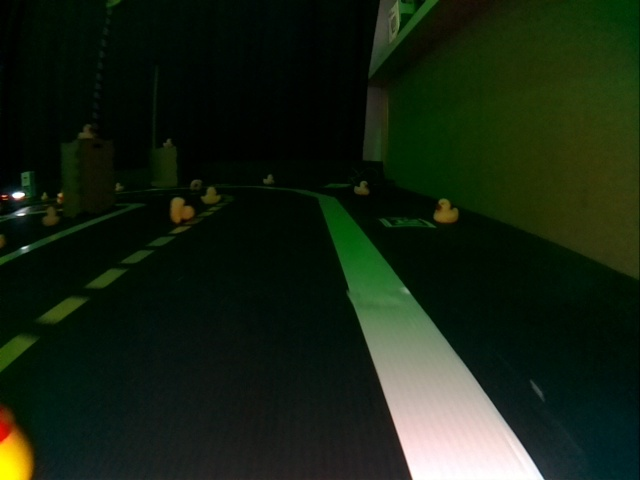Duckie: (434, 199, 458, 223), (169, 198, 193, 221), (43, 207, 57, 226), (203, 186, 219, 202), (355, 180, 370, 195), (78, 124, 93, 139), (263, 174, 275, 184), (116, 182, 124, 190), (57, 194, 65, 201)
QR code: (380, 218, 435, 228)
